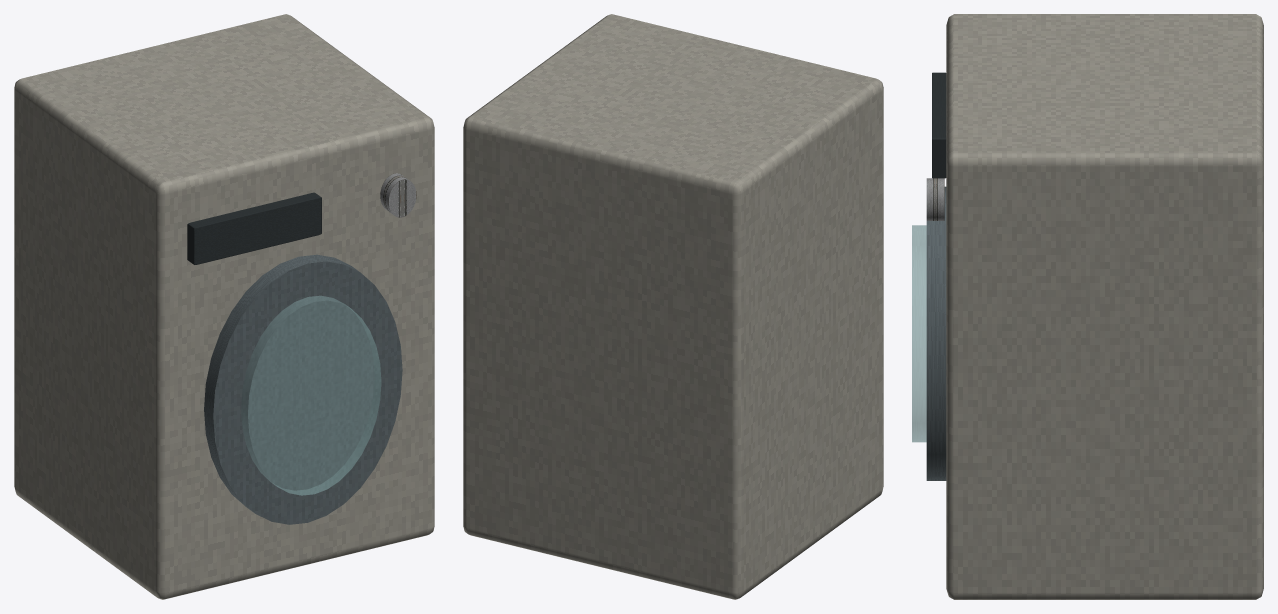
Rendered from dryer.glb.
3 views of the same model, side by side, from view 1: azimuth 30°, elevation 25°; view 2: azimuth 150°, elevation 25°; view 3: azimuth 270°, elevation 25° (orthographic). The views are drawn at different scales.
Visible parts, largest first — view 1: case, hatch, window, control, dial; view 2: case; view 3: case, hatch, window, control, dial.
Part boxes in pixels (left/top/right/bottom): case: left=14, top=14, right=434, bottom=599; hatch: left=204, top=254, right=402, bottom=524; window: left=241, top=296, right=381, bottom=495; control: left=187, top=192, right=321, bottom=264; dial: left=380, top=173, right=416, bottom=217; case: left=463, top=14, right=883, bottom=599; case: left=946, top=14, right=1263, bottom=599; hatch: left=926, top=186, right=946, bottom=480; window: left=912, top=225, right=926, bottom=442; control: left=932, top=72, right=946, bottom=178; dial: left=926, top=178, right=944, bottom=220.
Bounding box in the file's own units: 0.62 × 0.89 × 0.6338.
5 materials, 5 textured.
